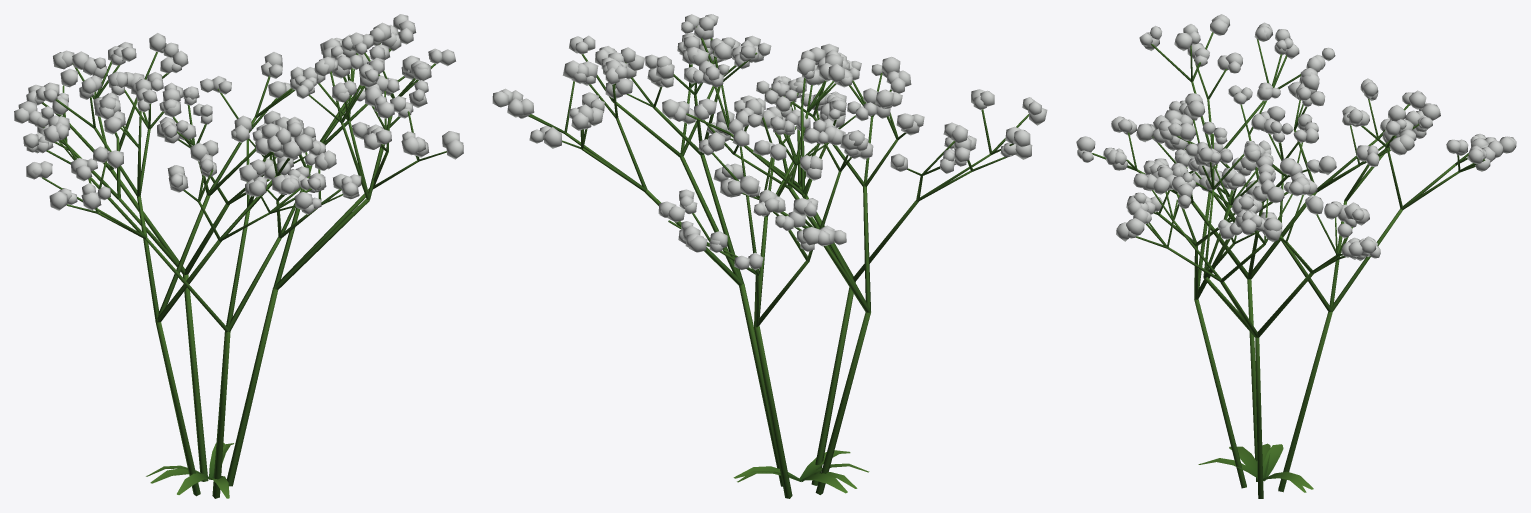
File: SM_Flower_BabysBreath.fbx
3 renders of one model, left to right at view 1: azimuth 30°, elevation 25°; view 2: azimuth 150°, elevation 25°; view 3: azimuth 270°, elevation 25°, orthographic. The views are drawn at different scales.
Visible parts, largest first — view 1: SM_Flower_BabysBreath; view 2: SM_Flower_BabysBreath; view 3: SM_Flower_BabysBreath.
Boxes of the visible parts, left/top/right/bottom form: SM_Flower_BabysBreath: left=14, top=14, right=463, bottom=498; SM_Flower_BabysBreath: left=492, top=14, right=1047, bottom=498; SM_Flower_BabysBreath: left=1076, top=14, right=1516, bottom=498.
Bounding box in the file's own units: 0.5466 × 0.4775 × 0.4672.
